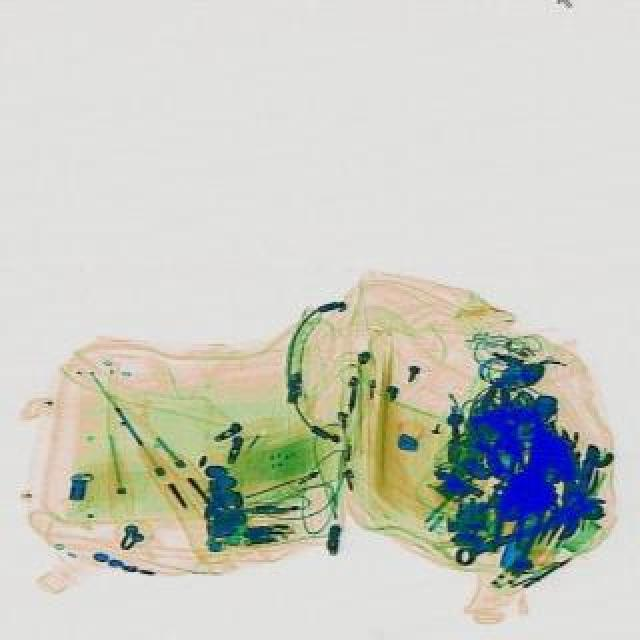scissors: (446, 494, 606, 570)
